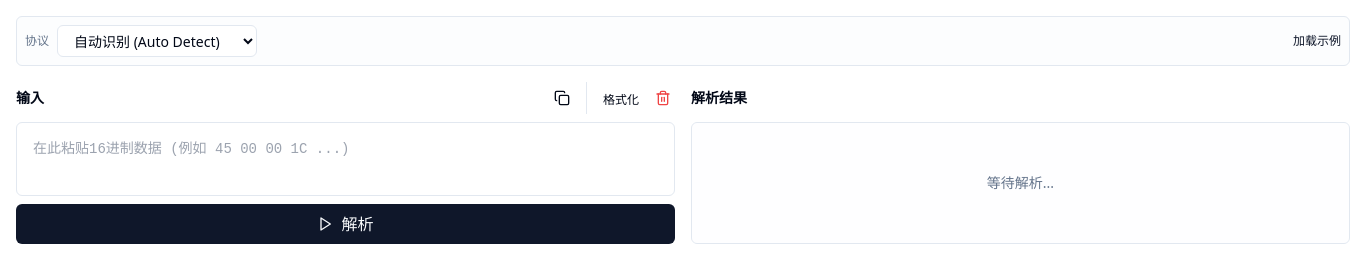
Test: ParserView › should display matched template name when auto-detect succeeds
Select "自动识别 (Auto Detect)" in the dropdown: (157,41) [57, 25, 257, 57]
In the text box with placeholder "在此粘贴16进制数据 (例如 45 00 00 1C ...)": (346,159) [16, 122, 675, 196], type "12 34"
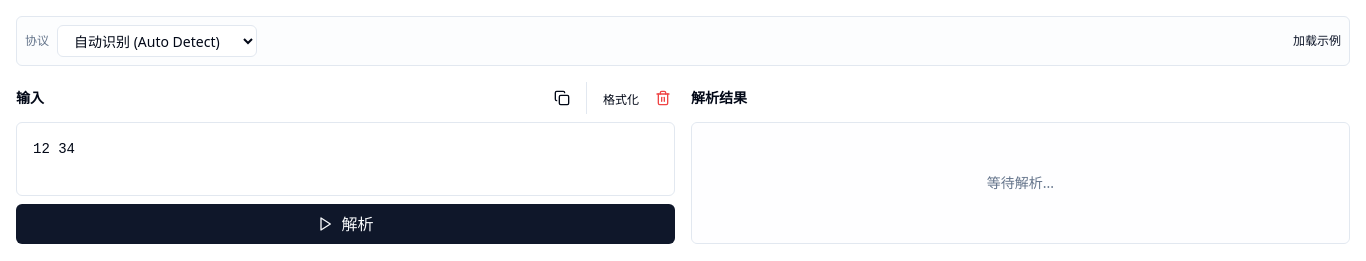
Click the button "解析": (346,224) [16, 204, 675, 244]
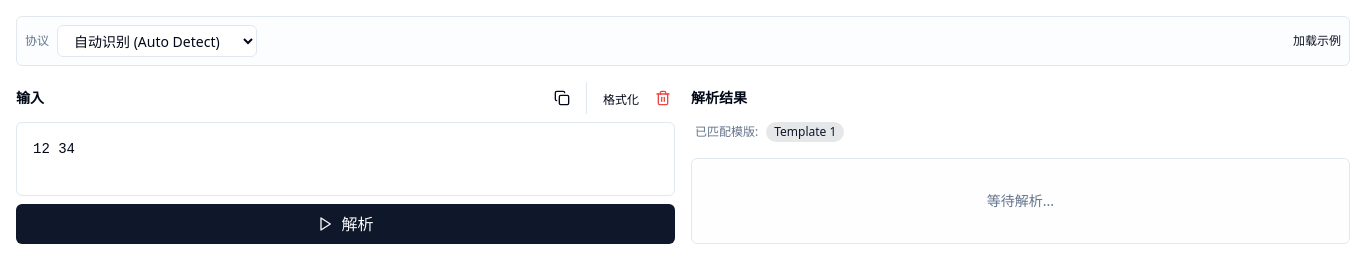
Now the text "已匹配模版:" is shown, box [695, 124, 758, 140]
Now the text "Template 1" is shown, box [766, 122, 844, 142]
